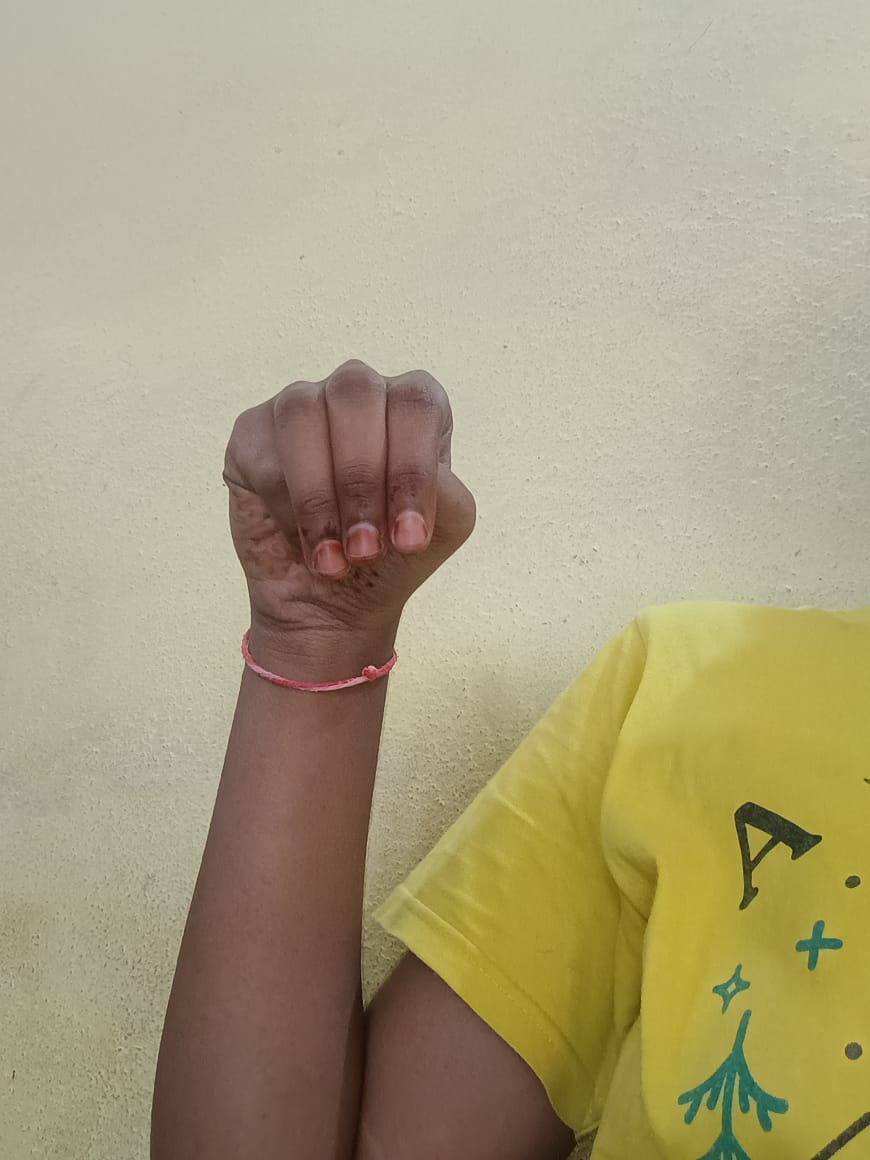M: (224, 359, 474, 628)
